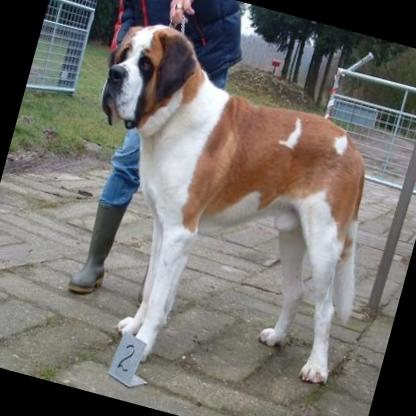Saint_Bernard: (32, 8, 412, 414)
